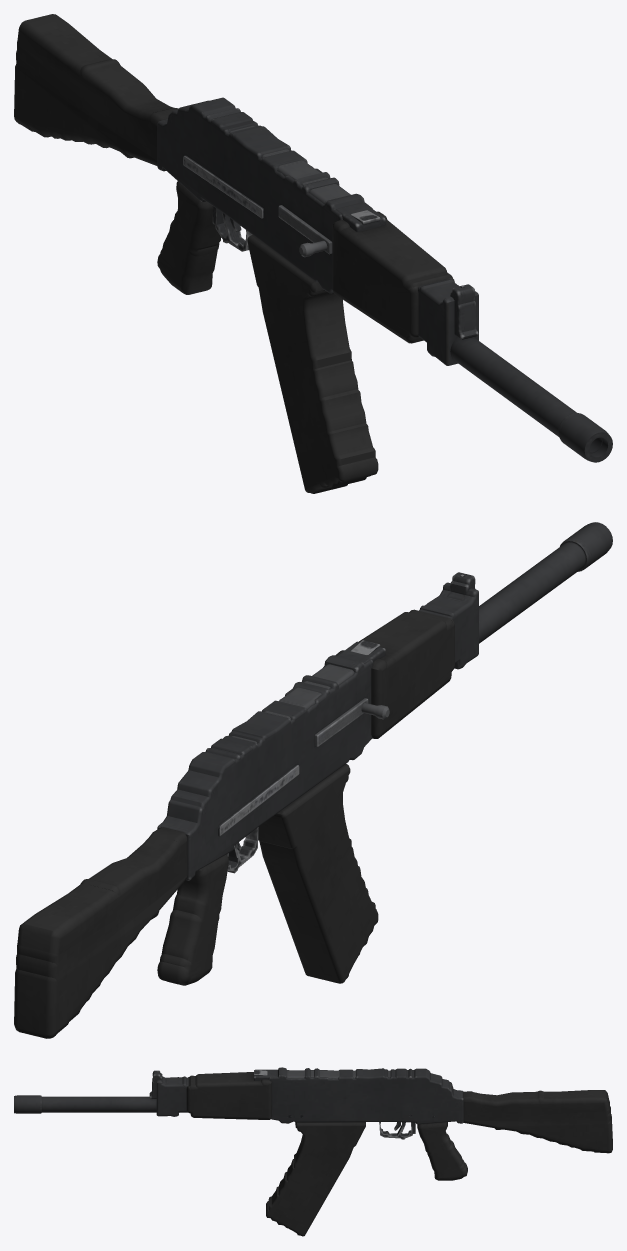
3 views of the same model, one above another, from view 1: azimuth 30°, elevation 25°; view 2: azimuth 150°, elevation 25°; view 3: azimuth 270°, elevation 25° (orthographic). The views are drawn at different scales.
Parts seen in each view (by area): view 1: body, mag_mesh, bolt_mesh; view 2: body, mag_mesh, bolt_mesh; view 3: body, mag_mesh.
Boxes of the visible parts, x1,y1,x2,y2 form: body: (14,14,612,462); mag_mesh: (247,235,378,493); bolt_mesh: (278,205,332,257); body: (14,522,612,1038); mag_mesh: (258,764,378,983); bolt_mesh: (314,698,389,747); body: (14,1067,612,1180); mag_mesh: (266,1122,365,1236).
Bounding box in the file's own units: 0.0689 × 0.2965 × 0.9989.
1 material, 1 textured.
